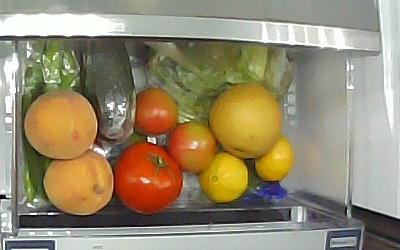peach: (22, 87, 98, 159), (42, 148, 113, 215)
pear: (206, 80, 282, 158)
tangerine: (196, 149, 248, 203), (253, 134, 294, 180)
tomato: (110, 140, 183, 213), (165, 120, 217, 173), (133, 86, 177, 135)
